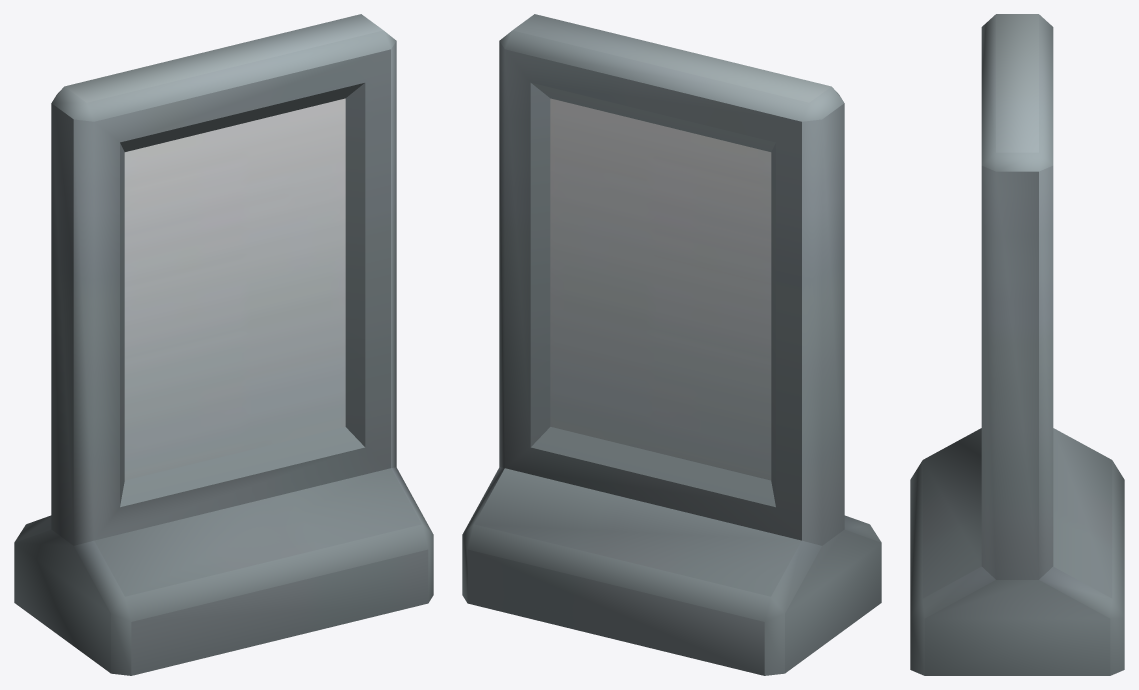
The model's file is kkr.menu.glb.
3 views of the same model, side by side, from view 1: azimuth 30°, elevation 25°; view 2: azimuth 150°, elevation 25°; view 3: azimuth 270°, elevation 25° (orthographic). The views are drawn at different scales.
Parts seen in each view (by area): view 1: menu; view 2: menu; view 3: menu.
Boxes of the visible parts, x1,y1,x2,y2 form: menu: (14,14,433,675); menu: (462,14,881,675); menu: (910,14,1124,675).
Size of the model in its own units: 0.1378 by 0.2205 by 0.0827.
1 material, 1 textured.
